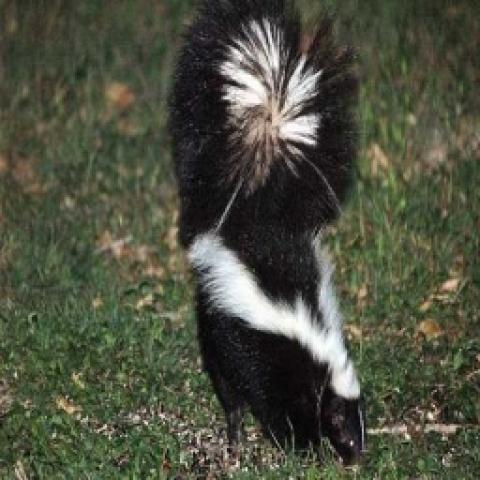small_animal: (163, 0, 371, 471)
